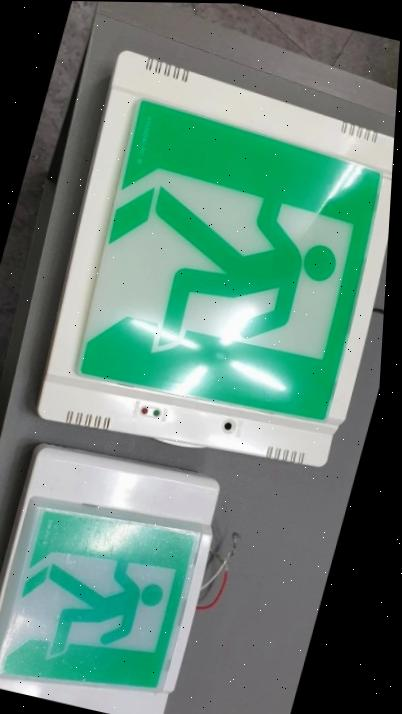emergency_exit: (36, 50, 393, 467), (1, 443, 220, 712)
